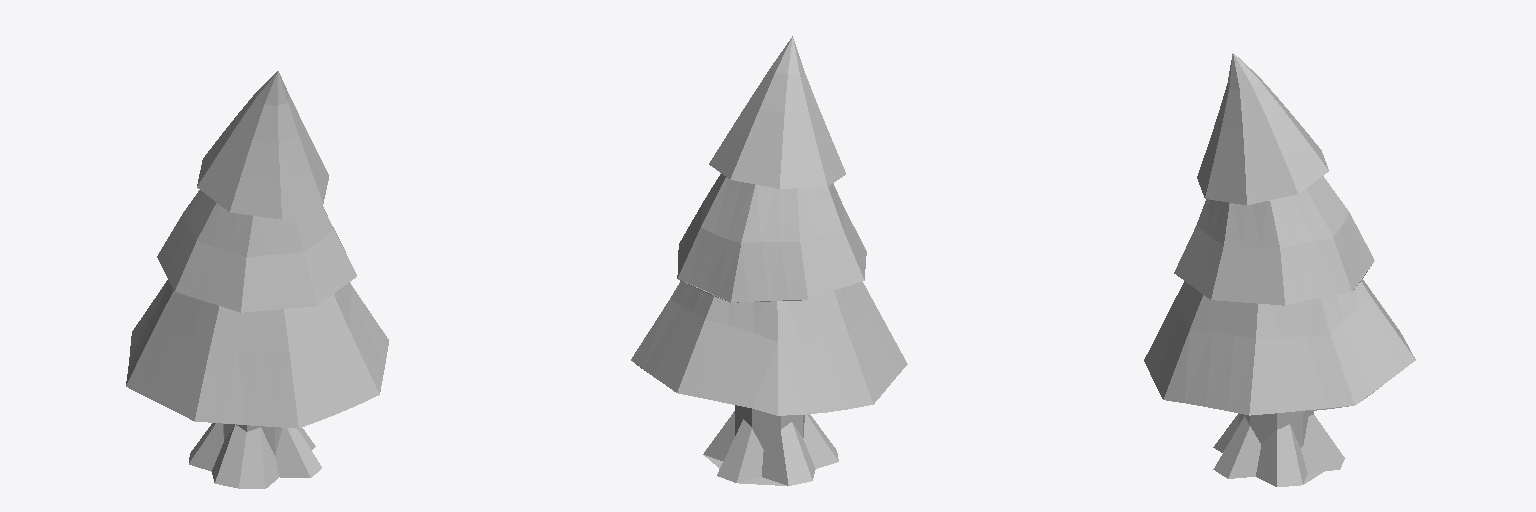
File: tree 1.obj
The picture shows the model from 3 angles: view 1: azimuth 30°, elevation 25°; view 2: azimuth 150°, elevation 25°; view 3: azimuth 270°, elevation 25°; orthographic projection.
Visible parts, largest first — view 1: 円錐; view 2: 円錐; view 3: 円錐.
Part boxes in pixels (x1,y1,x2,y2): 円錐: (126,71,388,488); 円錐: (631,36,907,485); 円錐: (1144,53,1415,486).
Bounding box in the file's own units: 3.09 × 5.08 × 3.08.